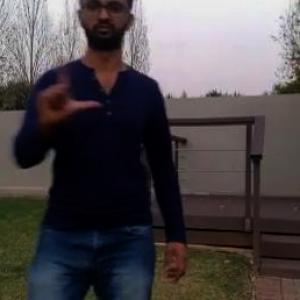land_hand: (31, 45, 105, 136)
